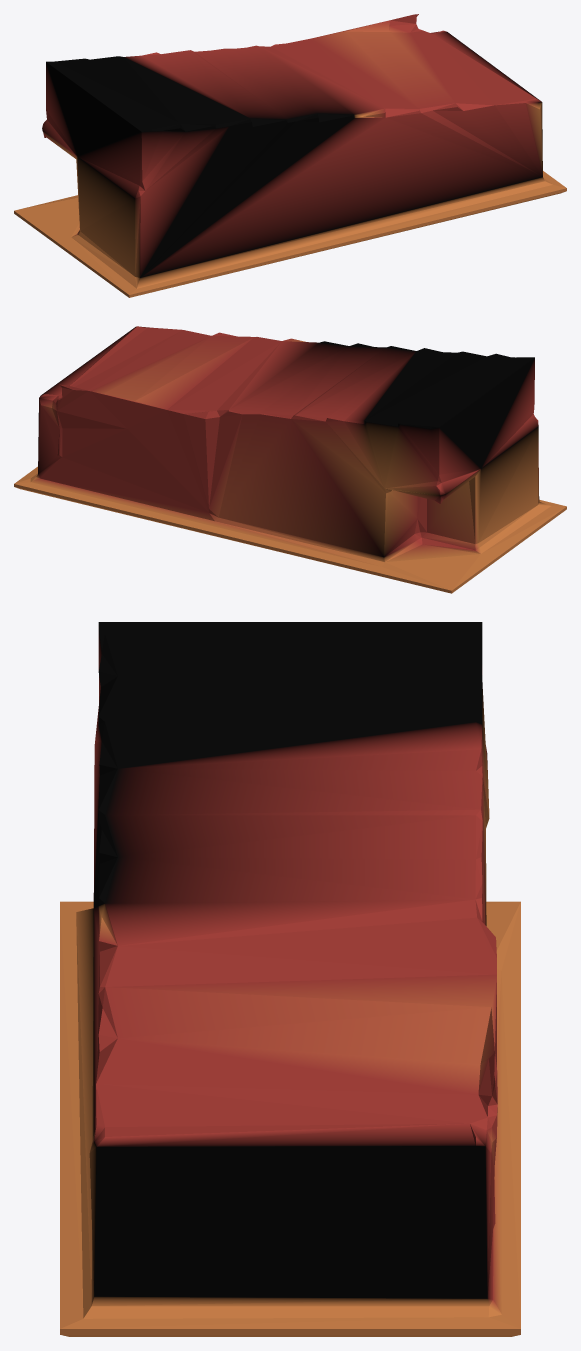
Rendered from Convenience Stores(2).glb.
3 renders of one model, top to bottom at view 1: azimuth 30°, elevation 25°; view 2: azimuth 150°, elevation 25°; view 3: azimuth 270°, elevation 25°, orthographic. The views are drawn at different scales.
Parts seen in each view (by area): view 1: Root; view 2: Root; view 3: Root.
Part boxes in pixels (x1,y1,x2,y2): Root: (14, 14, 566, 297); Root: (14, 326, 566, 593); Root: (60, 622, 520, 1336).
Size of the model in its own units: 18.4 by 6.28 by 8.39.
